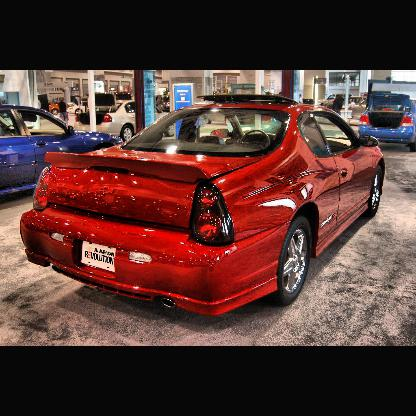Chevrolet Monte Carlo Coupe 2007: (21, 94, 388, 317)
